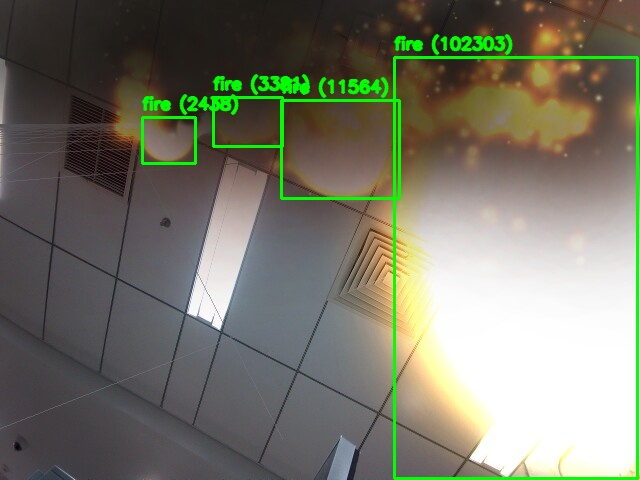fire: (394, 57, 637, 478), (281, 100, 399, 198), (213, 97, 282, 146), (142, 117, 195, 163)
